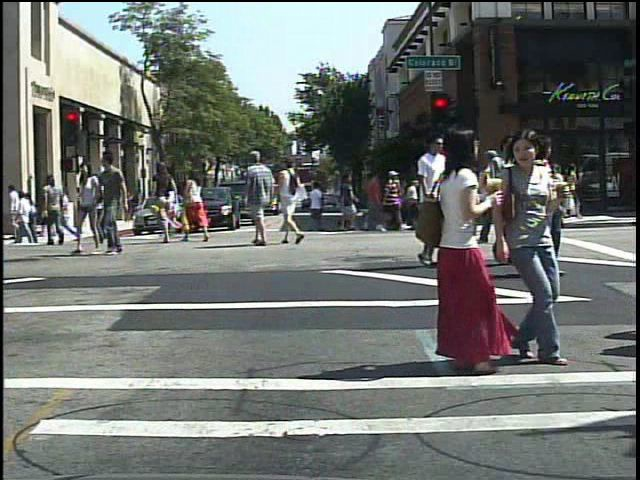person: (421, 123, 510, 378), (492, 126, 571, 367), (413, 131, 472, 272), (531, 130, 581, 279), (474, 132, 527, 267), (483, 137, 531, 248), (99, 147, 140, 257), (239, 147, 278, 248), (68, 160, 107, 257), (277, 150, 306, 247), (151, 163, 180, 245), (183, 164, 211, 241), (83, 168, 110, 245), (41, 173, 67, 246), (487, 163, 514, 233), (379, 165, 404, 234)
